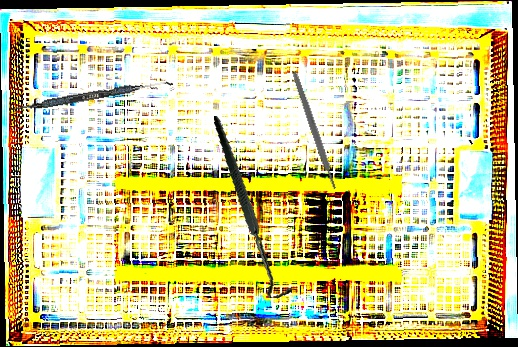Hook Surgical: (187, 115, 318, 301)
Scalpel Handle: (291, 71, 338, 190)
Spatula Surgical: (8, 75, 174, 117)
